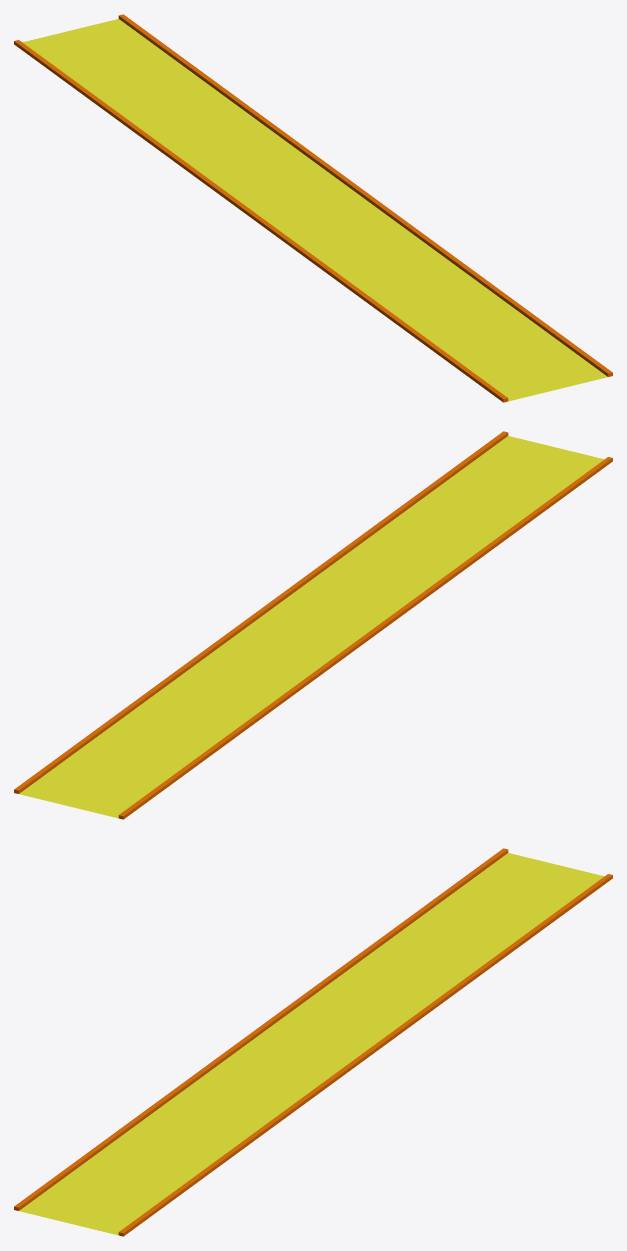
The model's file is straight_track_ (1).glb.
3 renders of one model, top to bottom at view 1: azimuth 30°, elevation 25°; view 2: azimuth 150°, elevation 25°; view 3: azimuth 330°, elevation 25°, orthographic.
Visible parts, largest first — view 1: Plane.002; view 2: Plane.002; view 3: Plane.002.
Boxes of the visible parts, left/top/right/bottom form: Plane.002: left=14, top=14, right=612, bottom=402; Plane.002: left=14, top=431, right=612, bottom=819; Plane.002: left=14, top=848, right=612, bottom=1236.
Bounding box in the file's own units: 13.55 × 0.3966 × 105.
